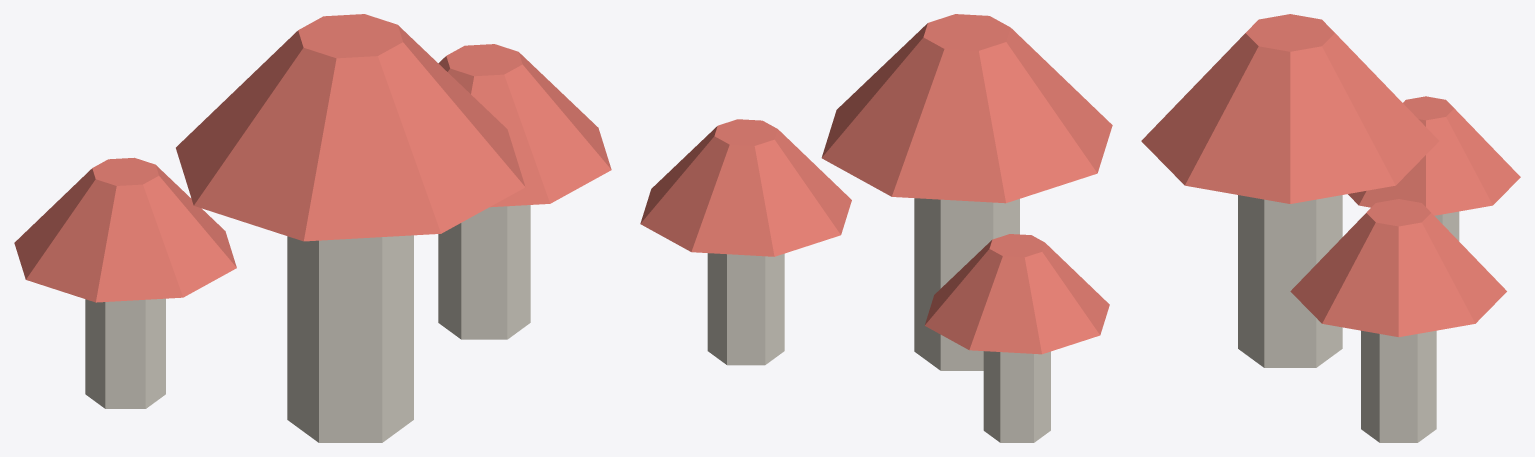
File: Mushrooms.fbx
3 views of the same model, side by side, from view 1: azimuth 30°, elevation 25°; view 2: azimuth 150°, elevation 25°; view 3: azimuth 270°, elevation 25° (orthographic). The views are drawn at different scales.
Parts seen in each view (by area): view 1: Mushrooms_Mesh; view 2: Mushrooms_Mesh; view 3: Mushrooms_Mesh.
Boxes of the visible parts, bbox=[...] form: Mushrooms_Mesh: bbox=[14, 14, 611, 442]; Mushrooms_Mesh: bbox=[640, 14, 1112, 442]; Mushrooms_Mesh: bbox=[1141, 14, 1520, 442].
Bounding box in the file's own units: 0.39 × 0.257 × 0.28.
